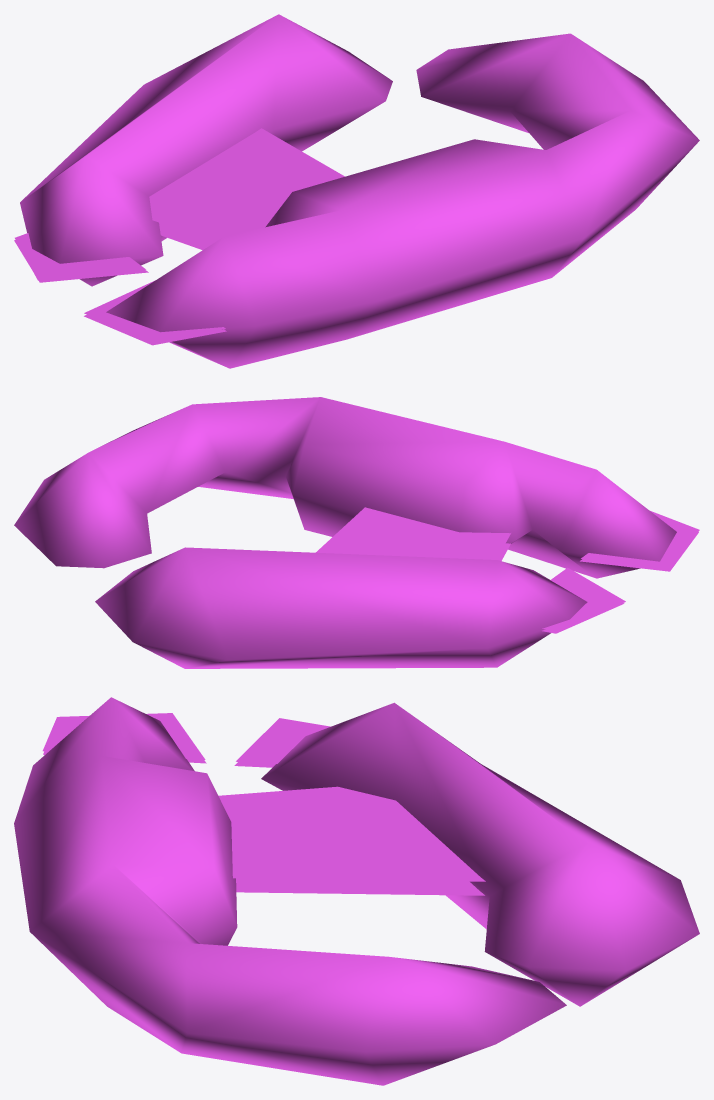
Rendered from plasma_pistol_01.fbx.
3 renders of one model, top to bottom at view 1: azimuth 30°, elevation 25°; view 2: azimuth 150°, elevation 25°; view 3: azimuth 270°, elevation 25°, orthographic. The views are drawn at different scales.
Parts seen in each view (by area): view 1: Object003; view 2: Object003; view 3: Object003.
Part boxes in pixels (x1,y1,x2,y2): Object003: [14, 14, 699, 368]; Object003: [14, 397, 699, 668]; Object003: [14, 697, 699, 1085].
Size of the model in its own units: 2.31 by 0.5223 by 1.91.
